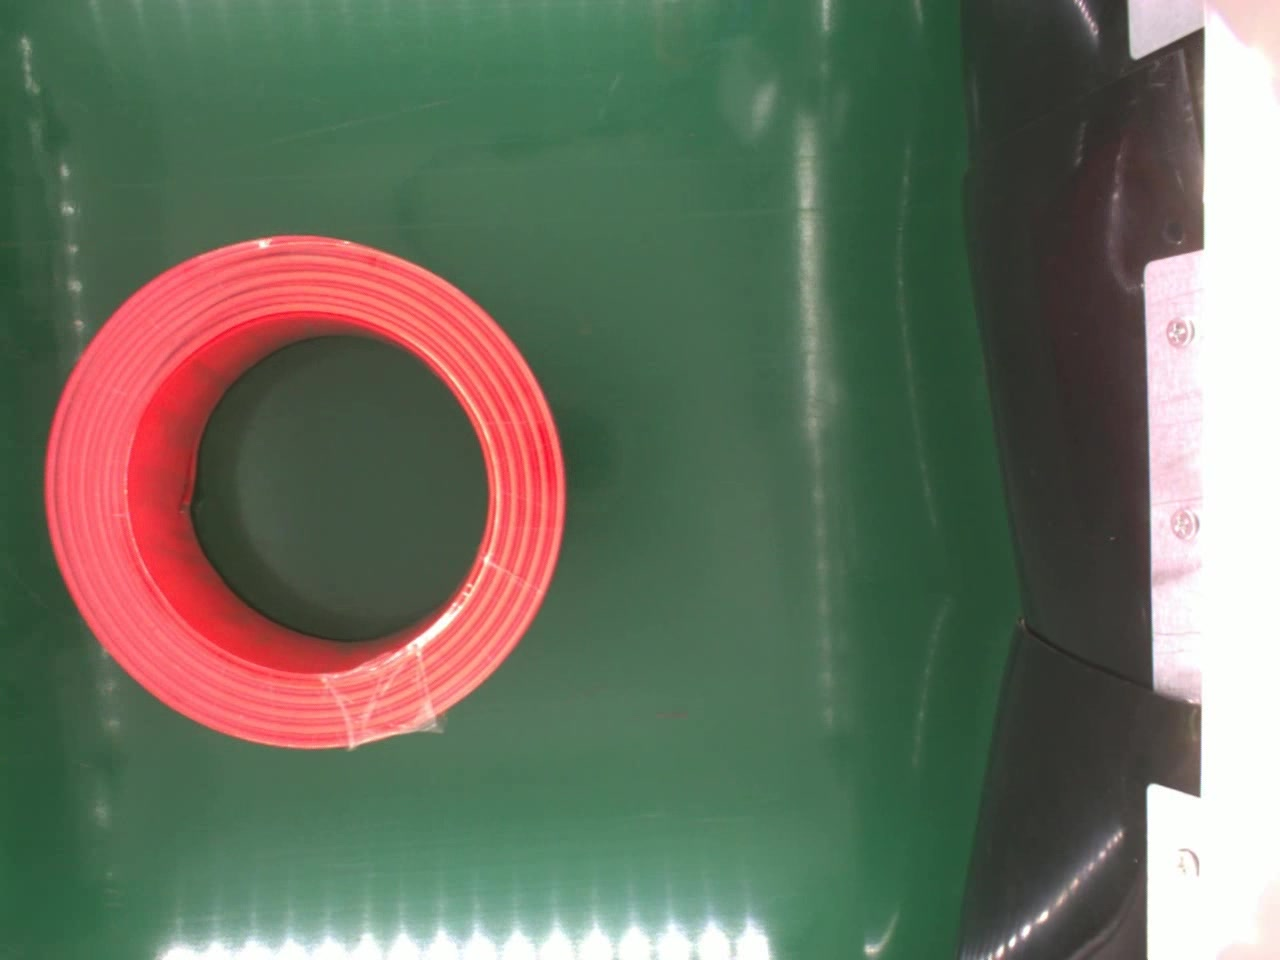red: (41, 234, 572, 751)
